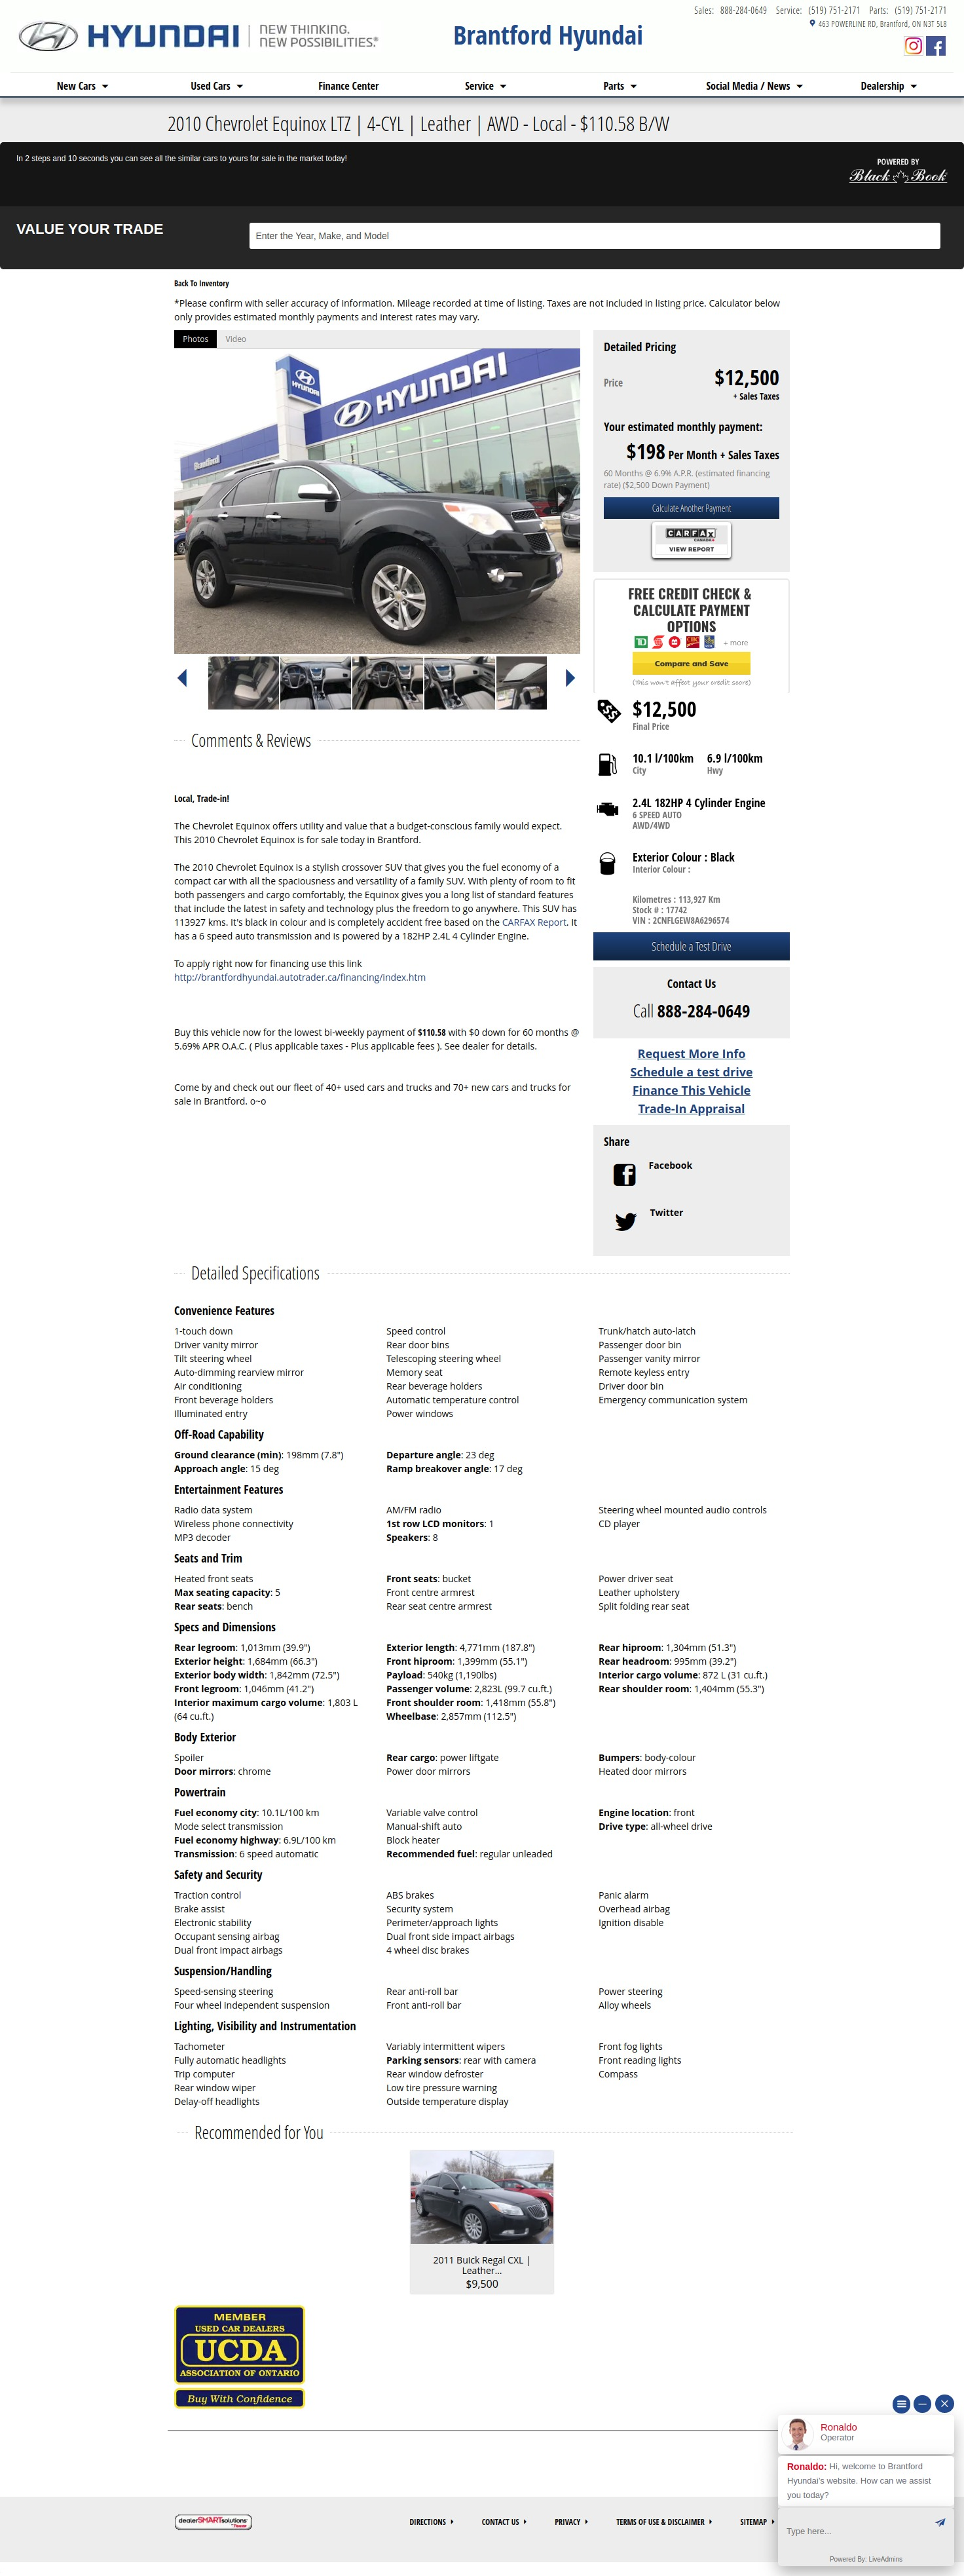car: (563, 670, 576, 687)
